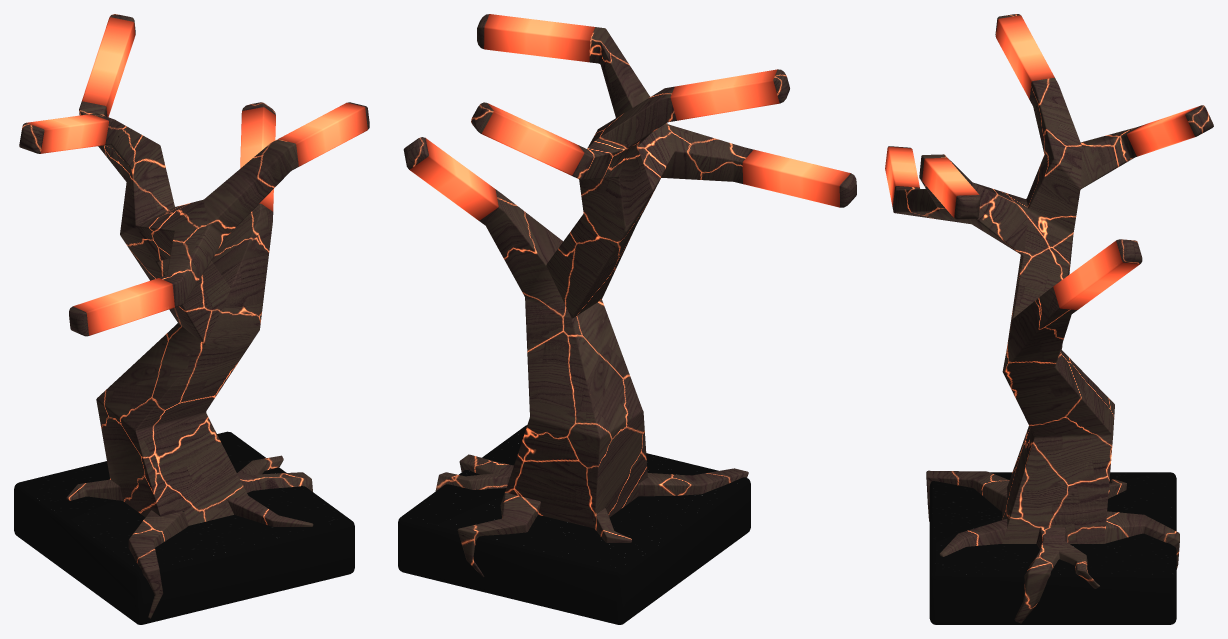
Rendered from custom_1786486457801_894065823.glb.
3 views of the same model, side by side, from view 1: azimuth 30°, elevation 25°; view 2: azimuth 150°, elevation 25°; view 3: azimuth 270°, elevation 25° (orthographic). The views are drawn at different scales.
Parts seen in each view (by area): view 1: Plane.001, Cube; view 2: Plane.001, Cube; view 3: Plane.001, Cube.
Part boxes in pixels (x1,y1,x2,y2): Plane.001: (19,14,369,618); Cube: (14,431,354,624); Plane.001: (403,14,856,576); Cube: (398,425,750,624); Plane.001: (885,14,1213,623); Cube: (929,472,1176,624).
Bounding box in the file's own units: 3.61 × 5.11 × 3.2.
Materials: 2 (2 with a texture image).
